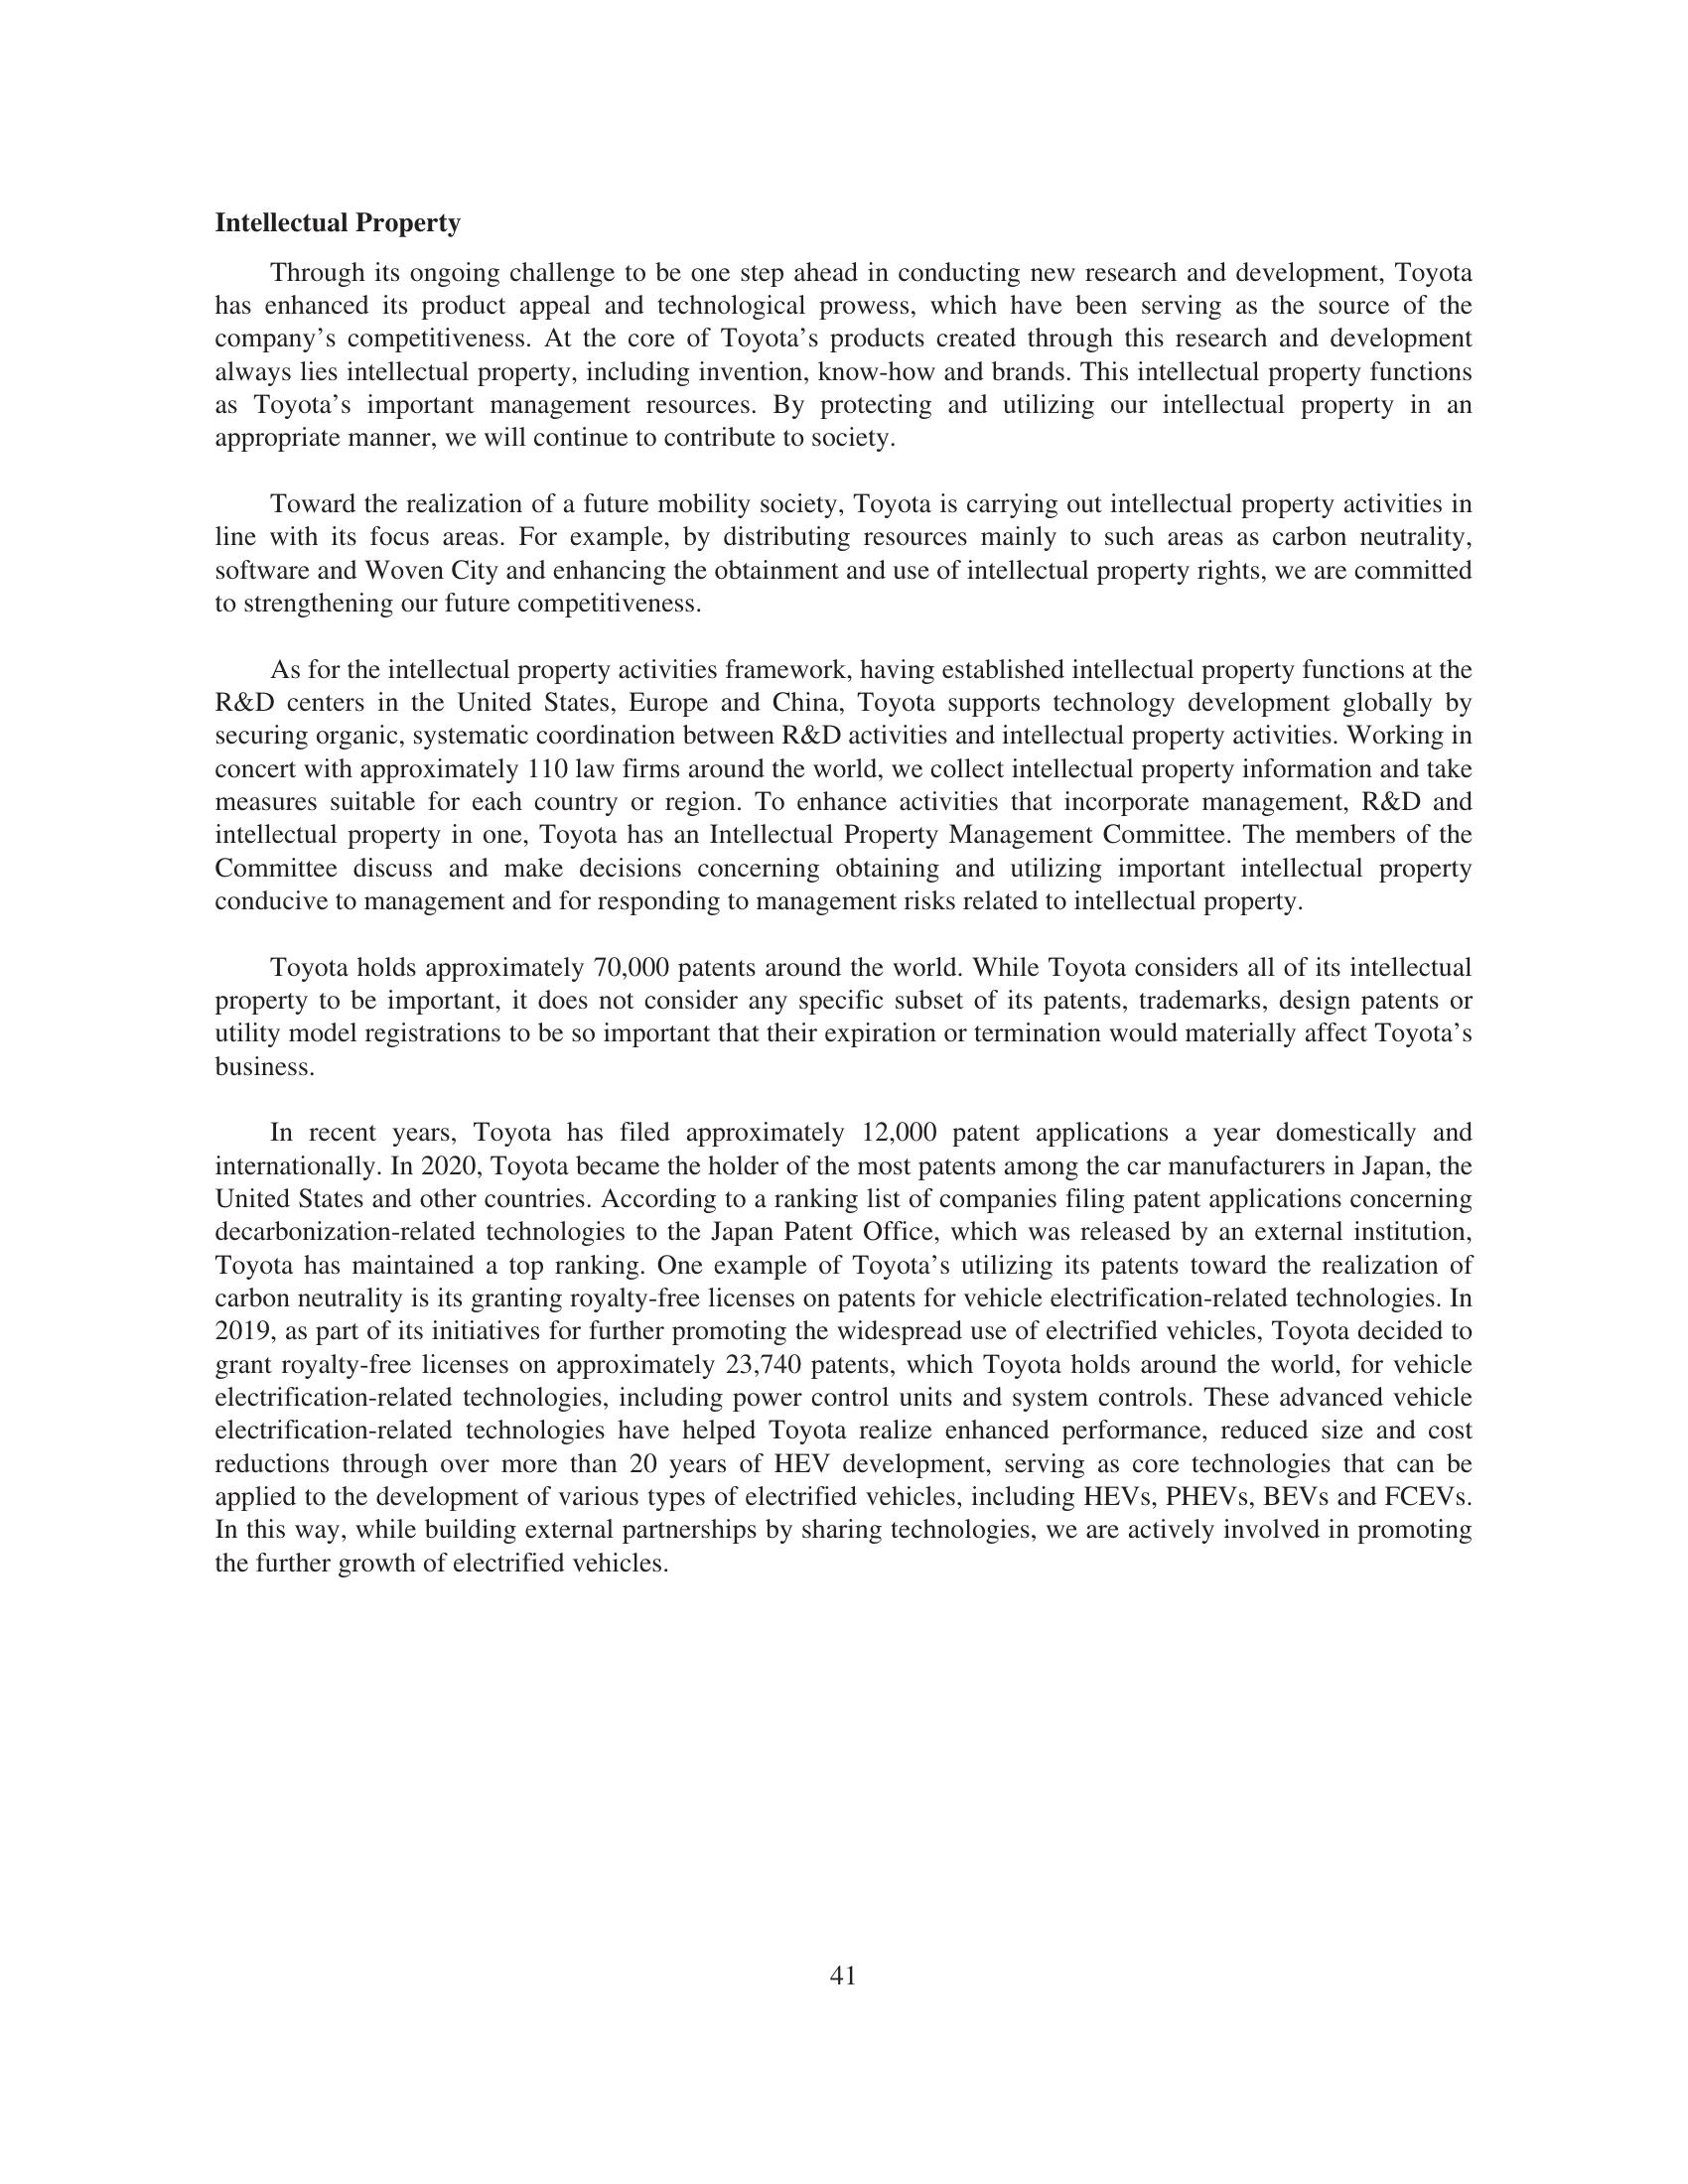Footer: (0, 1929, 1688, 2184)
Header: (0, 0, 1688, 191)
